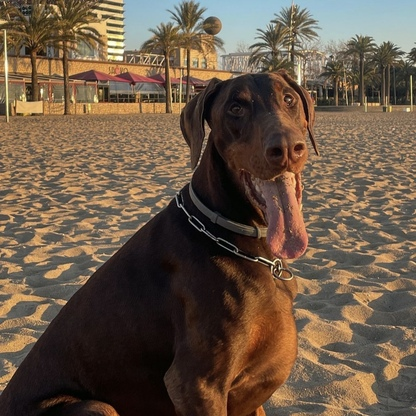doberman: (42, 69, 327, 406)
